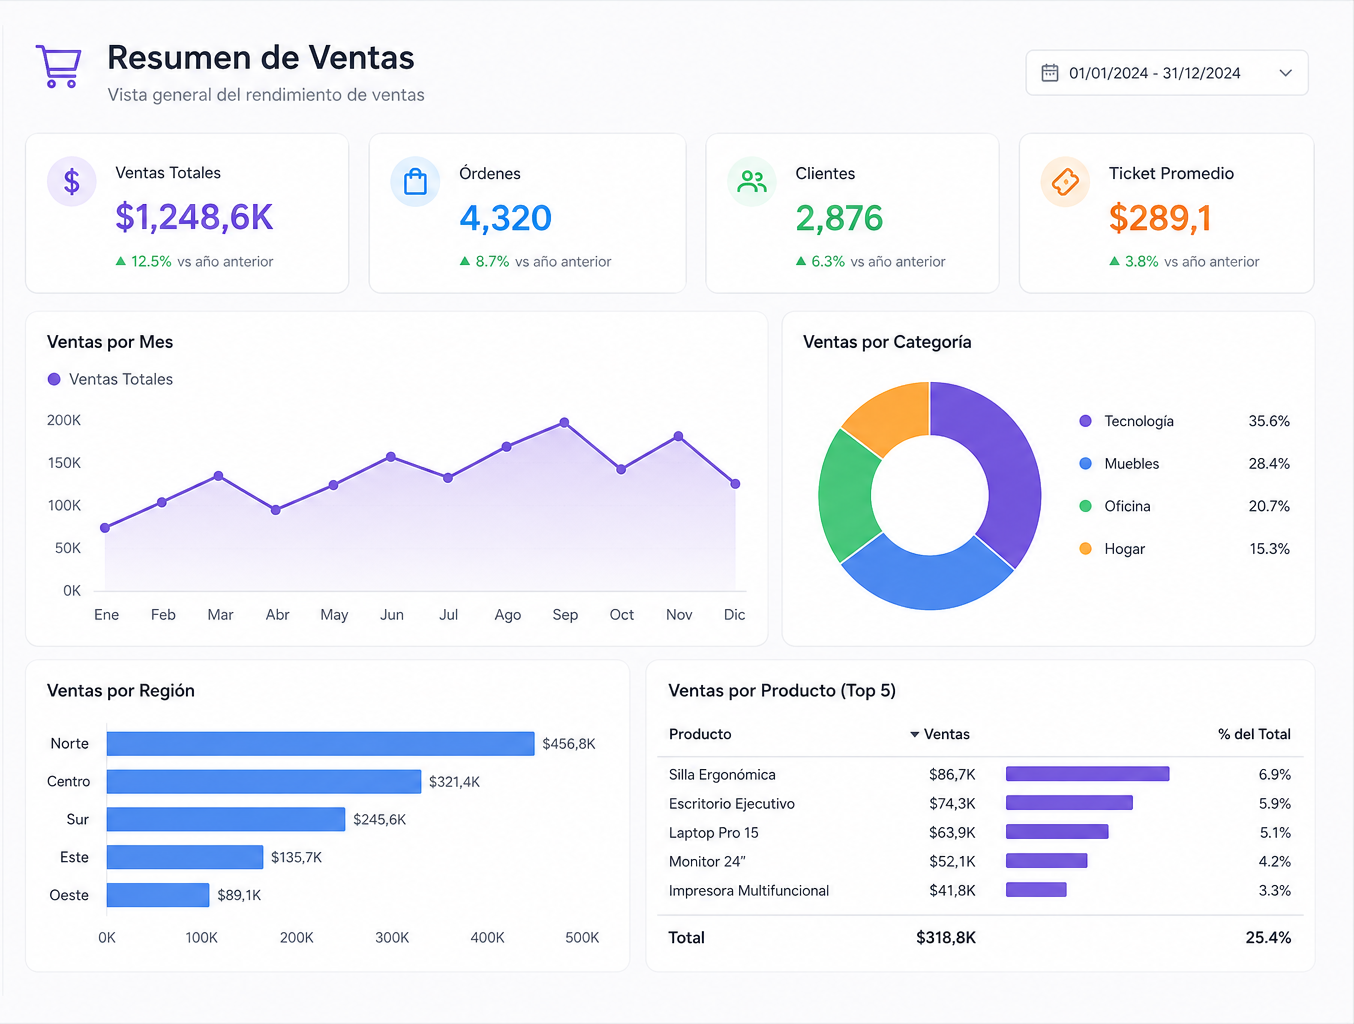

Layout of this report page (visuals, bound fields, positions):
{"tool":"powerbi","page":{"name":"Página 1","canvas":[1280,720],"ordinal":0},"visuals":[{"type":"shape","box":[144,96,1136,625],"z":0},{"type":"shape","box":[939.9,620.7,22.4,14.7],"z":0,"group":"g1"},{"type":"shape","box":[0,0,1280,95],"z":1000},{"type":"shape","box":[960.9,620.7,22.4,14.7],"z":1000,"group":"g1"},{"type":"textbox","box":[208,32,1072,160],"z":2000},{"type":"shape","box":[982,620.7,22.4,14.7],"z":2000,"group":"g1"},{"type":"shape","box":[0,96,144,624],"z":3000},{"type":"shape","box":[1003.1,620.7,22.4,14.7],"z":3000,"group":"g1"},{"type":"textbox","box":[40,128,128,64],"z":4000},{"type":"shape","box":[1024.2,620.7,22.4,14.7],"z":4000,"group":"g1"},{"type":"textbox","box":[40,192,128,64],"z":5000},{"type":"shape","box":[1045.3,620.7,22.4,14.7],"z":5000,"group":"g1"},{"type":"textbox","box":[40,256,128,64],"z":6000},{"type":"textbox","box":[898.2,628.7,232,56],"z":6000,"group":"g1"},{"type":"textbox","box":[40,320,128,64],"z":7000},{"type":"textbox","box":[40,384,128,64],"z":8000},{"type":"textbox","box":[40,448,128,64],"z":9000},{"type":"textbox","box":[40,512,128,64],"z":10000},{"type":"shape","box":[0,120,16,48],"z":11000},{"type":"slicer","fields":{"Values":["Fact_Siniestros_Region.Año"]},"box":[160,104,240,64],"z":12000},{"type":"slicer","fields":{"Values":["Fact_Siniestros_Region.DEPARTAMENTO"]},"box":[472,104,208,64],"z":13000},{"type":"slicer","fields":{"Values":["Fact_Siniestros_Tipo.Tipo_Siniestro"]},"box":[752,104,224,64],"z":14000},{"type":"slicer","fields":{"Values":["Fact_Victimas.Condicion"]},"box":[1056,104,208,64],"z":15000},{"type":"cardVisual","fields":{"Data":["Fact_Siniestros_Region.Total Fallecidos"]},"box":[432,176,256,96],"z":16000},{"type":"cardVisual","fields":{"Data":["Fact_Siniestros_Region.Total Siniestros"]},"box":[160,176,264,96],"z":17000},{"type":"cardVisual","fields":{"Data":["Fact_Siniestros_Region.Total Heridos"]},"box":[704,176,272,96],"z":18000},{"type":"cardVisual","fields":{"Data":["Fact_Siniestros_Region.Regiones Reportadas"]},"box":[1008,176,272,96],"z":19000},{"type":"lineChart","title":"       Evolución anual de siniestros","fields":{"Category":["Fact_Siniestros_Region.Año"],"Y":["Sum(Fact_Siniestros_Region.Total_Siniestros)"]},"box":[160,280,432,176],"z":20000},{"type":"azureMap","title":"Distribución geográfica de siniestros","fields":{"Category":["Fact_Siniestros_Region.Ubicacion_Mapa"],"Size":["Fact_Siniestros_Region.Total Siniestros"]},"box":[608,280,288,208],"z":21000},{"type":"clusteredBarChart","title":"Top departamentos con más siniestros","fields":{"Category":["Fact_Siniestros_Region.Departamento"],"Y":["Fact_Siniestros_Region.Total Siniestros"]},"box":[912,280,352,208],"z":22000},{"type":"donutChart","title":"Tipo de siniestro","fields":{"Category":["Fact_Siniestros_Tipo.Tipo_Siniestro"],"Y":["Sum(Fact_Siniestros_Tipo.Cantidad)"]},"box":[160,464,304,224],"z":23000},{"type":"pivotTable","title":"Comparativo mensual de siniestros 2023-2025","fields":{"Rows":["Fact_Siniestros_Mensual.Año"],"Values":["Sum(Fact_Siniestros_Mensual.Siniestros)"],"Columns":["Dim_Meses.Mes_Corto"]},"box":[786.2,492.7,480,176],"z":24000},{"type":"columnChart","title":"Fallecidos y heridos por año","fields":{"Category":["Fact_Victimas.Año"],"Series":["Fact_Victimas.Condicion"],"Y":["Sum(Fact_Victimas.Cantidad)"]},"box":[472,496,304,192],"z":25000},{"type":"group","id":"g1","title":"Grupo 1","box":[898.2,620.7,232,64],"z":26000},{"type":"shape","box":[176,16,16,64],"z":27000},{"type":"image","box":[192,280,32,32],"z":28000},{"type":"image","box":[320,112,96,48],"z":29000},{"type":"image","box":[832,280,48,48],"z":30000},{"type":"image","box":[624,112,64,48],"z":31000},{"type":"image","box":[800,8,480,88],"z":32000},{"type":"image","box":[912,104,53,61],"z":33000},{"type":"image","box":[1208,112,48,56],"z":34000},{"type":"image","box":[728,480,48,64],"z":35000},{"type":"image","box":[912,272,32,48],"z":36000},{"type":"image","box":[8,152,32,112],"z":37000},{"type":"image","box":[0,416,40,96],"z":38000},{"type":"image","box":[0,496,40,64],"z":39000},{"type":"image","box":[0,248,45,45],"z":40000},{"type":"image","box":[8,128,32,32],"z":41000},{"type":"image","box":[0,352,42,85],"z":42000},{"type":"image","box":[8,304,40,56],"z":43000},{"type":"image","box":[272,456,72,40],"z":44000},{"type":"textbox","box":[208,8,1071,144],"z":45000},{"type":"image","box":[0,16,192,64],"z":46000}]}

Visuals, with their boxes on the page's 1280x720 design canvas (x1, y1, x2, y2). These are canvas units, not pixel positions in the 1354x1024 screenshot, which may show the page scaled, cropped or inside an application window:
shape: select_region(144, 96, 1280, 721)
shape: select_region(940, 621, 962, 635)
shape: select_region(0, 0, 1280, 95)
shape: select_region(961, 621, 983, 635)
textbox: select_region(208, 32, 1280, 192)
shape: select_region(982, 621, 1004, 635)
shape: select_region(0, 96, 144, 720)
shape: select_region(1003, 621, 1026, 635)
textbox: select_region(40, 128, 168, 192)
shape: select_region(1024, 621, 1047, 635)
textbox: select_region(40, 192, 168, 256)
shape: select_region(1045, 621, 1068, 635)
textbox: select_region(40, 256, 168, 320)
textbox: select_region(898, 629, 1130, 685)
textbox: select_region(40, 320, 168, 384)
textbox: select_region(40, 384, 168, 448)
textbox: select_region(40, 448, 168, 512)
textbox: select_region(40, 512, 168, 576)
shape: select_region(0, 120, 16, 168)
slicer - Fact_Siniestros_Region.Año: select_region(160, 104, 400, 168)
slicer - Fact_Siniestros_Region.DEPARTAMENTO: select_region(472, 104, 680, 168)
slicer - Fact_Siniestros_Tipo.Tipo_Siniestro: select_region(752, 104, 976, 168)
slicer - Fact_Victimas.Condicion: select_region(1056, 104, 1264, 168)
cardVisual - Fact_Siniestros_Region.Total Fallecidos: select_region(432, 176, 688, 272)
cardVisual - Fact_Siniestros_Region.Total Siniestros: select_region(160, 176, 424, 272)
cardVisual - Fact_Siniestros_Region.Total Heridos: select_region(704, 176, 976, 272)
cardVisual - Fact_Siniestros_Region.Regiones Reportadas: select_region(1008, 176, 1280, 272)
"       Evolución anual de siniestros" lineChart: select_region(160, 280, 592, 456)
"Distribución geográfica de siniestros" azureMap: select_region(608, 280, 896, 488)
"Top departamentos con más siniestros" clusteredBarChart: select_region(912, 280, 1264, 488)
"Tipo de siniestro" donutChart: select_region(160, 464, 464, 688)
"Comparativo mensual de siniestros 2023-2025" pivotTable: select_region(786, 493, 1266, 669)
"Fallecidos y heridos por año" columnChart: select_region(472, 496, 776, 688)
"Grupo 1" group: select_region(898, 621, 1130, 685)
shape: select_region(176, 16, 192, 80)
image: select_region(192, 280, 224, 312)
image: select_region(320, 112, 416, 160)
image: select_region(832, 280, 880, 328)
image: select_region(624, 112, 688, 160)
image: select_region(800, 8, 1280, 96)
image: select_region(912, 104, 965, 165)
image: select_region(1208, 112, 1256, 168)
image: select_region(728, 480, 776, 544)
image: select_region(912, 272, 944, 320)
image: select_region(8, 152, 40, 264)
image: select_region(0, 416, 40, 512)
image: select_region(0, 496, 40, 560)
image: select_region(0, 248, 45, 293)
image: select_region(8, 128, 40, 160)
image: select_region(0, 352, 42, 437)
image: select_region(8, 304, 48, 360)
image: select_region(272, 456, 344, 496)
textbox: select_region(208, 8, 1279, 152)
image: select_region(0, 16, 192, 80)
